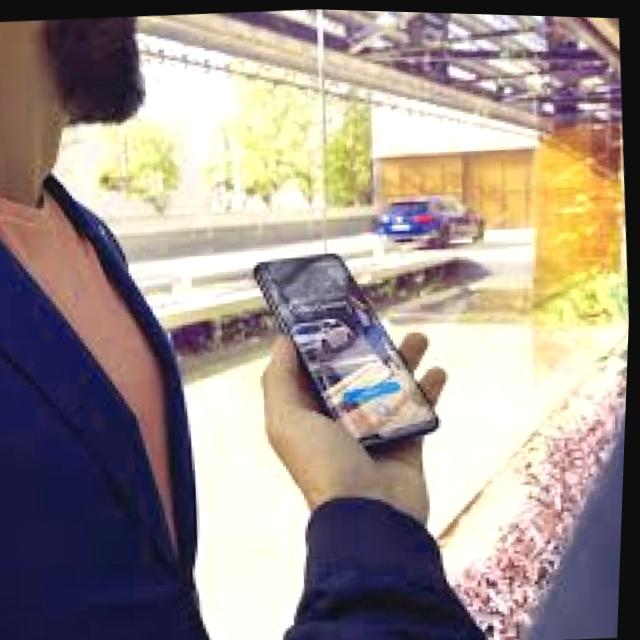Smartphone: (248, 235, 454, 471)
